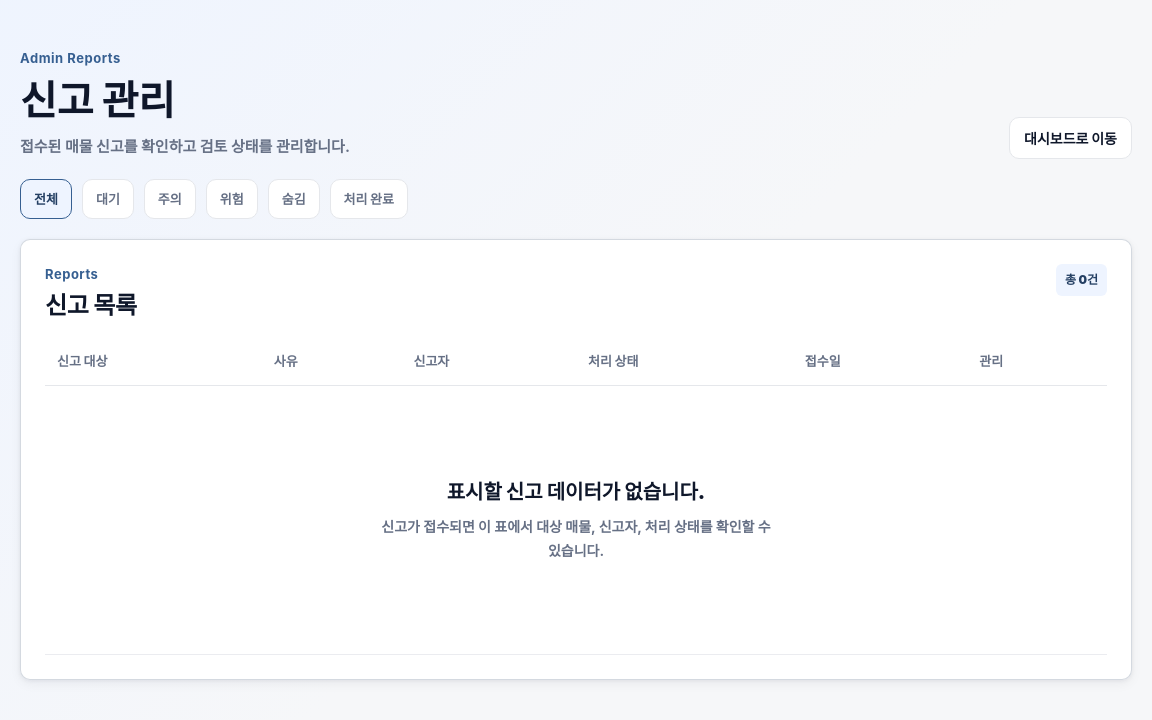
Test case: AdminReportsView › 상태 필터를 클릭하면 status로 재조회한다
The width and height of the screenshot is (1152, 720).
Click the button "처리 완료": (369, 200) 330,180 -> 408,220
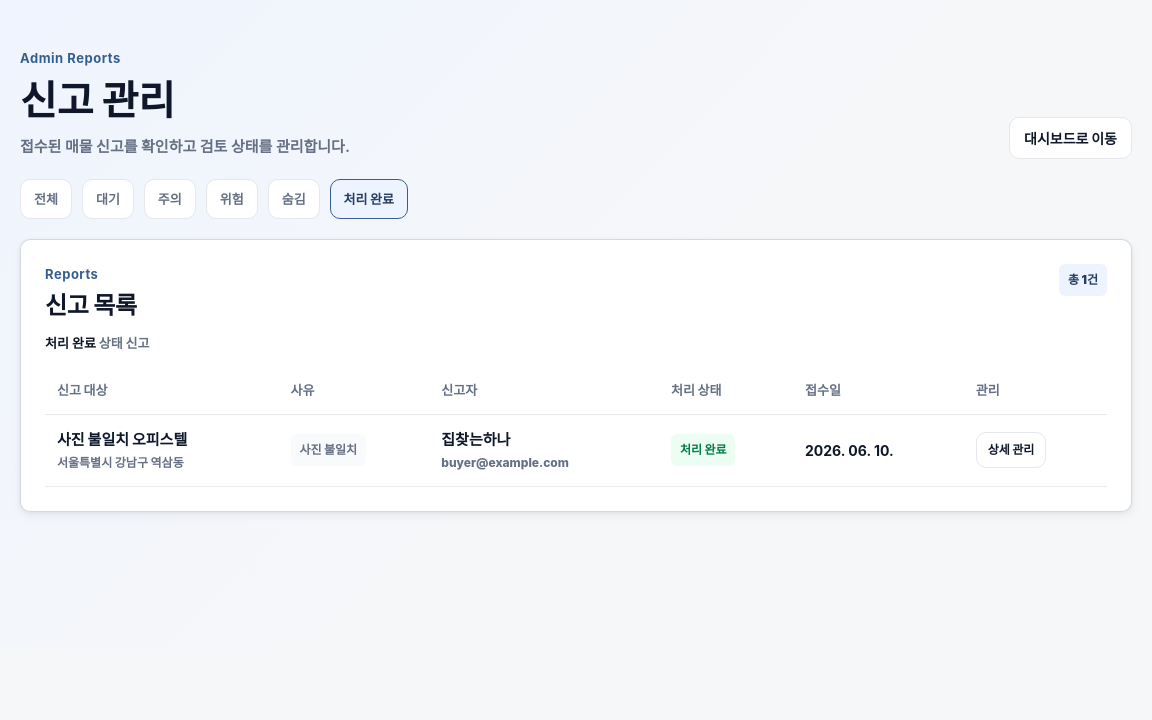
Result: the text "처리 완료 상태 신고" is shown at 45,335 -> 150,351
Result: the text "사진 불일치 오피스텔" is shown at 57,430 -> 187,449
Result: the text "사진 불일치" is shown at 57,430 -> 187,449
